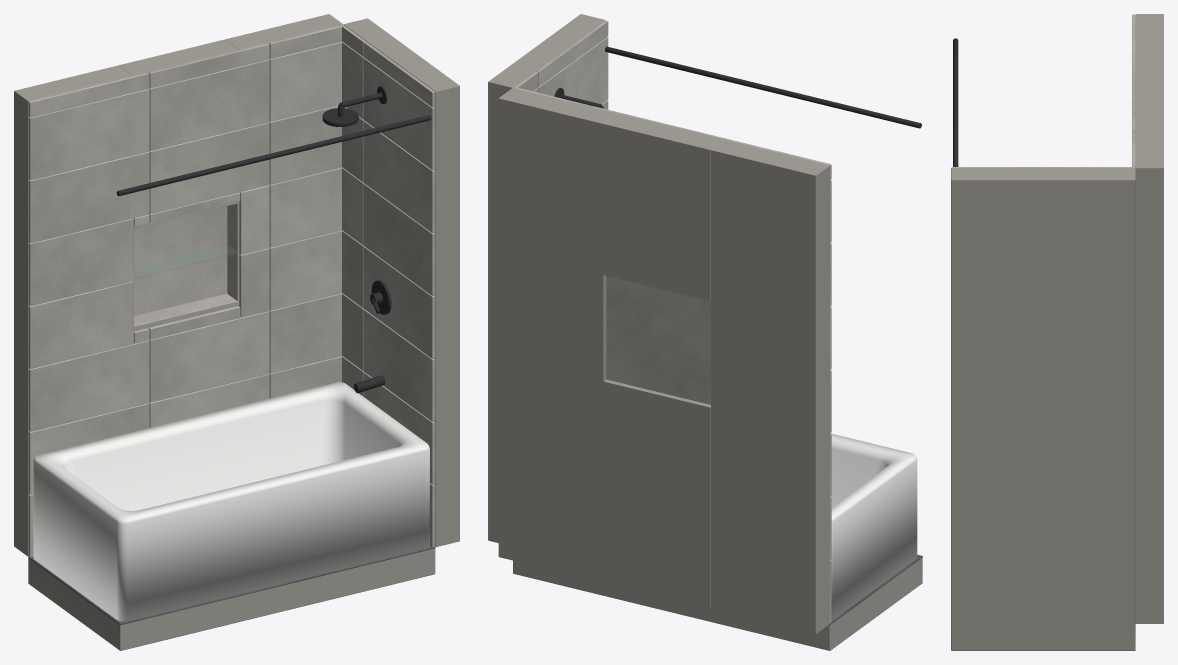
File: small-bathroom-remodel-in-queen-anne.glb
3 views of the same model, side by side, from view 1: azimuth 30°, elevation 25°; view 2: azimuth 150°, elevation 25°; view 3: azimuth 270°, elevation 25° (orthographic).
Visible parts, largest first — view 1: Mist porcelain surround · field tile, White alcove tub, Tub return · field tile, Tub return · wall core, Mist porcelain surround · wall core, Tub footprint · foundation, Two-level niche · recess, Black curtain rod, Two-level niche · sill, Two-level niche · jamb, Tub footprint · finish, Two-level niche · intermediate shelf; view 2: Mist porcelain surround · wall core, White alcove tub, Two-level niche · recess, Tub return · wall core, Tub footprint · foundation, Tub return · field tile, Black curtain rod, Mist porcelain surround · field tile; view 3: Tub return · wall core, Mist porcelain surround · wall core, Tub footprint · foundation, Black curtain rod, Mist porcelain surround · field tile.
Boxes of the visible parts, left/top/right/bottom form: Mist porcelain surround · field tile: left=28, top=25, right=343, bottom=557; White alcove tub: left=33, top=382, right=429, bottom=621; Tub return · field tile: left=341, top=25, right=435, bottom=547; Tub return · wall core: left=343, top=18, right=459, bottom=547; Mist porcelain surround · wall core: left=14, top=14, right=343, bottom=556; Tub footprint · foundation: left=28, top=548, right=435, bottom=650; Two-level niche · recess: left=133, top=206, right=227, bottom=316; Black curtain rod: left=116, top=115, right=431, bottom=196; Two-level niche · sill: left=134, top=293, right=238, bottom=330; Two-level niche · jamb: left=133, top=201, right=239, bottom=304; Tub footprint · finish: left=28, top=546, right=435, bottom=625; Two-level niche · intermediate shelf: left=134, top=245, right=237, bottom=278; Mist porcelain surround · wall core: left=498, top=88, right=829, bottom=634; White alcove tub: left=831, top=433, right=917, bottom=620; Two-level niche · recess: left=606, top=276, right=710, bottom=404; Tub return · wall core: left=488, top=14, right=605, bottom=542; Tub footprint · foundation: left=513, top=558, right=922, bottom=650; Tub return · field tile: left=513, top=20, right=608, bottom=109; Black curtain rod: left=605, top=46, right=921, bottom=128; Mist porcelain surround · field tile: left=514, top=87, right=831, bottom=622; Tub return · wall core: left=951, top=168, right=1135, bottom=635; Mist porcelain surround · wall core: left=1135, top=14, right=1163, bottom=623; Tub footprint · foundation: left=951, top=636, right=1135, bottom=650; Black curtain rod: left=953, top=38, right=958, bottom=166; Mist porcelain surround · field tile: left=1132, top=14, right=1135, bottom=167.
Bounding box in the file's own units: 1.72 × 2.34 × 0.934.
8 materials, 2 textured.
